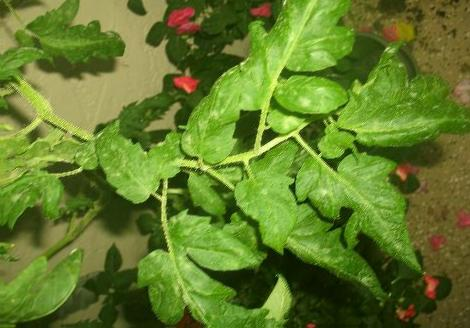Tomato mold leaf: (131, 215, 293, 328), (292, 145, 422, 277), (345, 49, 470, 149), (233, 0, 364, 79), (173, 66, 245, 163), (0, 252, 88, 328), (93, 127, 158, 208), (0, 170, 68, 236), (270, 76, 350, 125)
